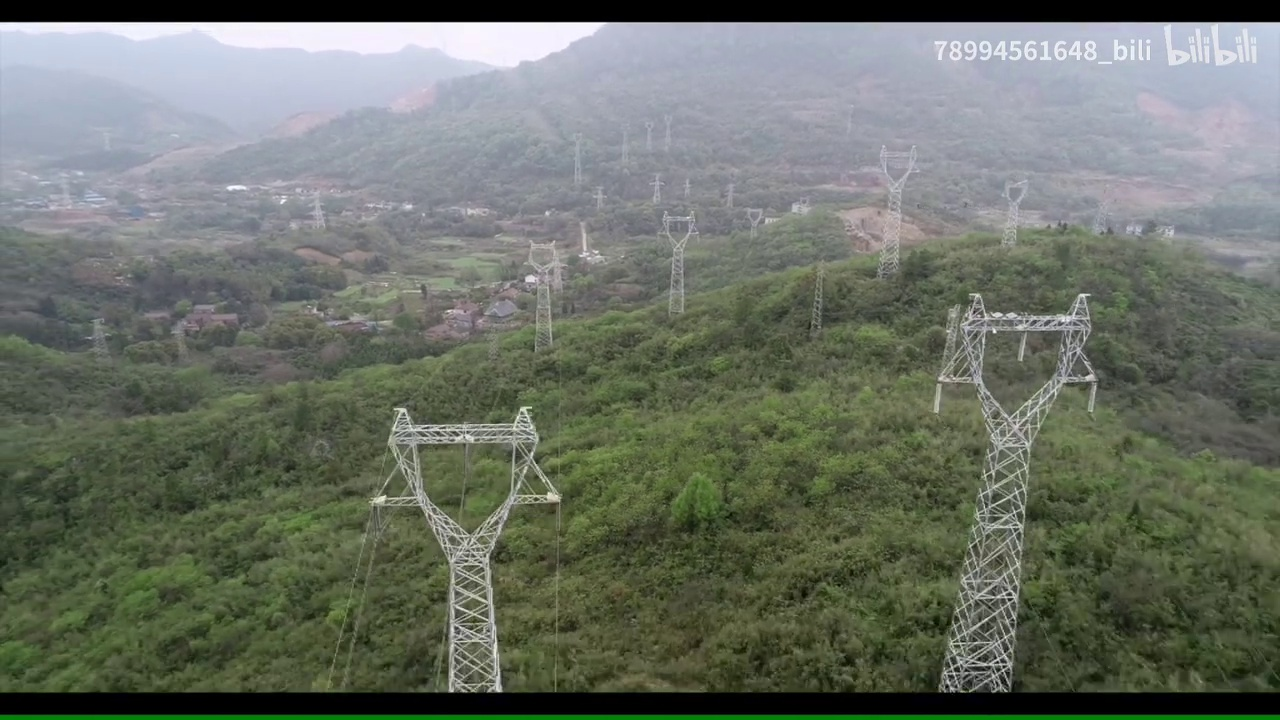tower_body: (925, 283, 1117, 695), (370, 398, 577, 694), (862, 135, 926, 291), (516, 231, 574, 365), (650, 203, 709, 321), (993, 174, 1037, 253)
tower_foot: (933, 623, 1026, 693), (434, 646, 509, 691), (872, 244, 905, 287), (530, 320, 560, 360), (662, 284, 689, 316), (1001, 223, 1021, 246)
tower_head: (378, 404, 566, 559), (937, 291, 1112, 446), (872, 142, 920, 189), (658, 209, 704, 250), (523, 237, 566, 275), (999, 179, 1031, 205)
